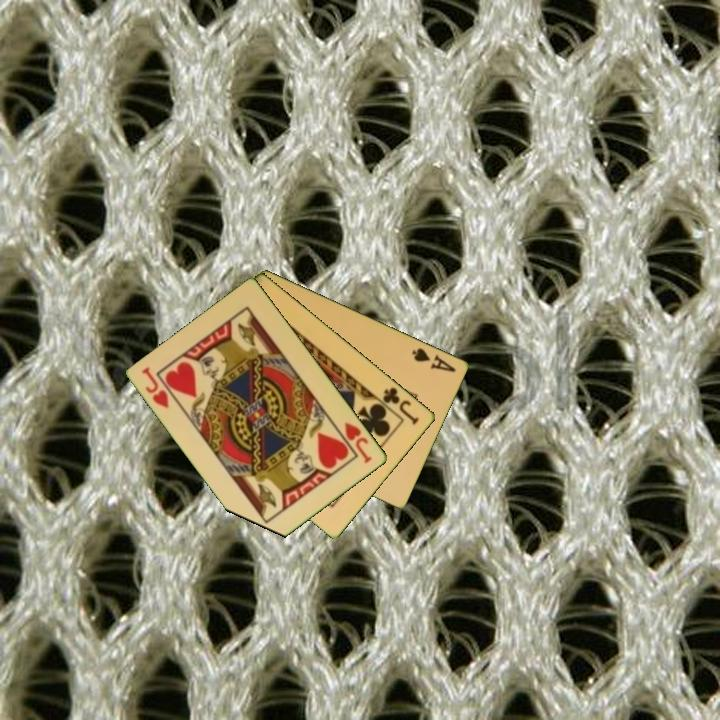As: (409, 344, 459, 375)
Jc: (379, 383, 423, 428)
Jh: (332, 418, 375, 466), (139, 364, 172, 411)
